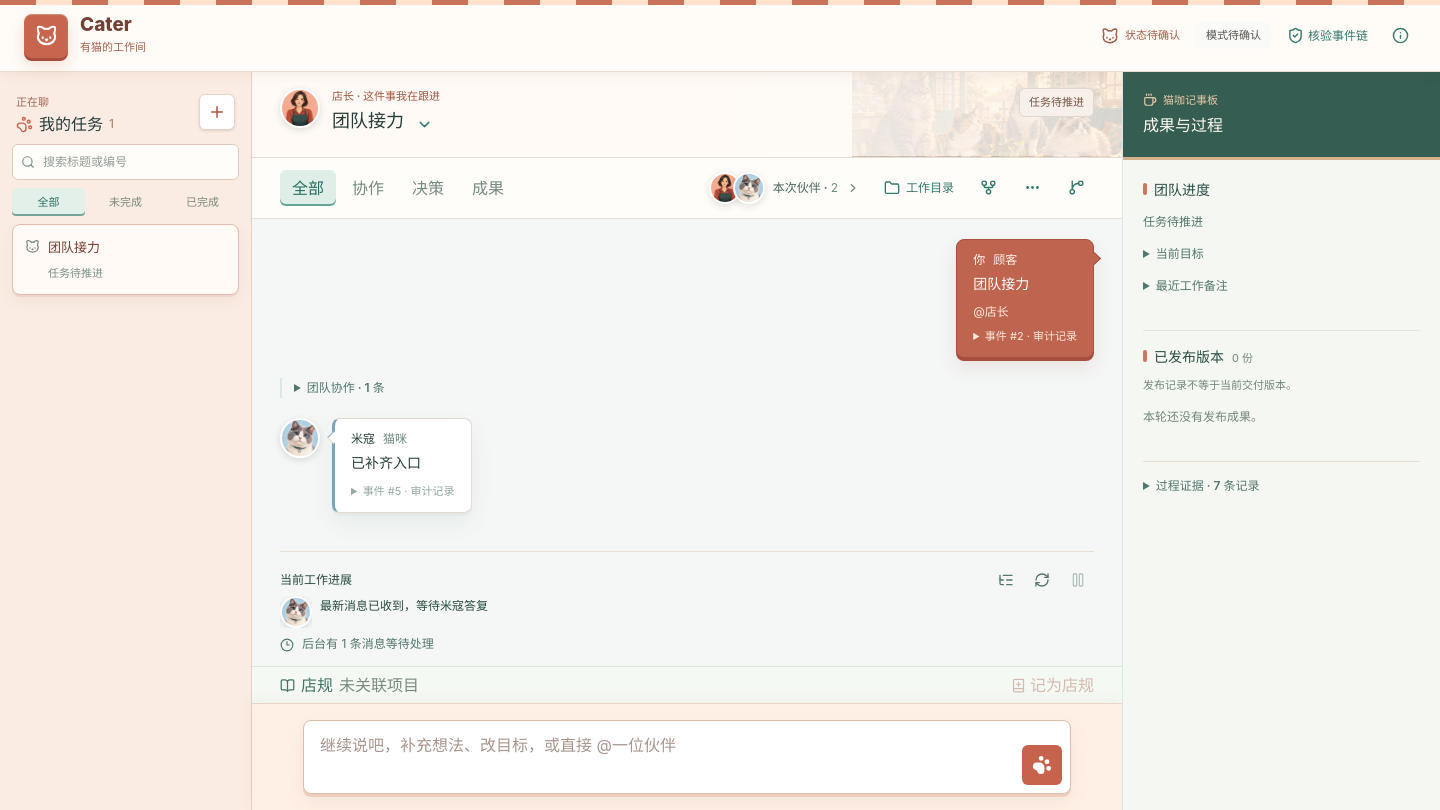
团队用户消息保留一份，角色公开发言使用 speaker，内部报告不重复公开回复
Expected: the element "团队进度" is shown, [1143,180,1228,292]
Expected: the text "团队接力" is shown once, [973,274,1029,292]
What coordinates should you click on to do the following:
click the button "本次伙伴 · 2"
I would click on:
 (784, 188)
Its box is [701,166,868,210].
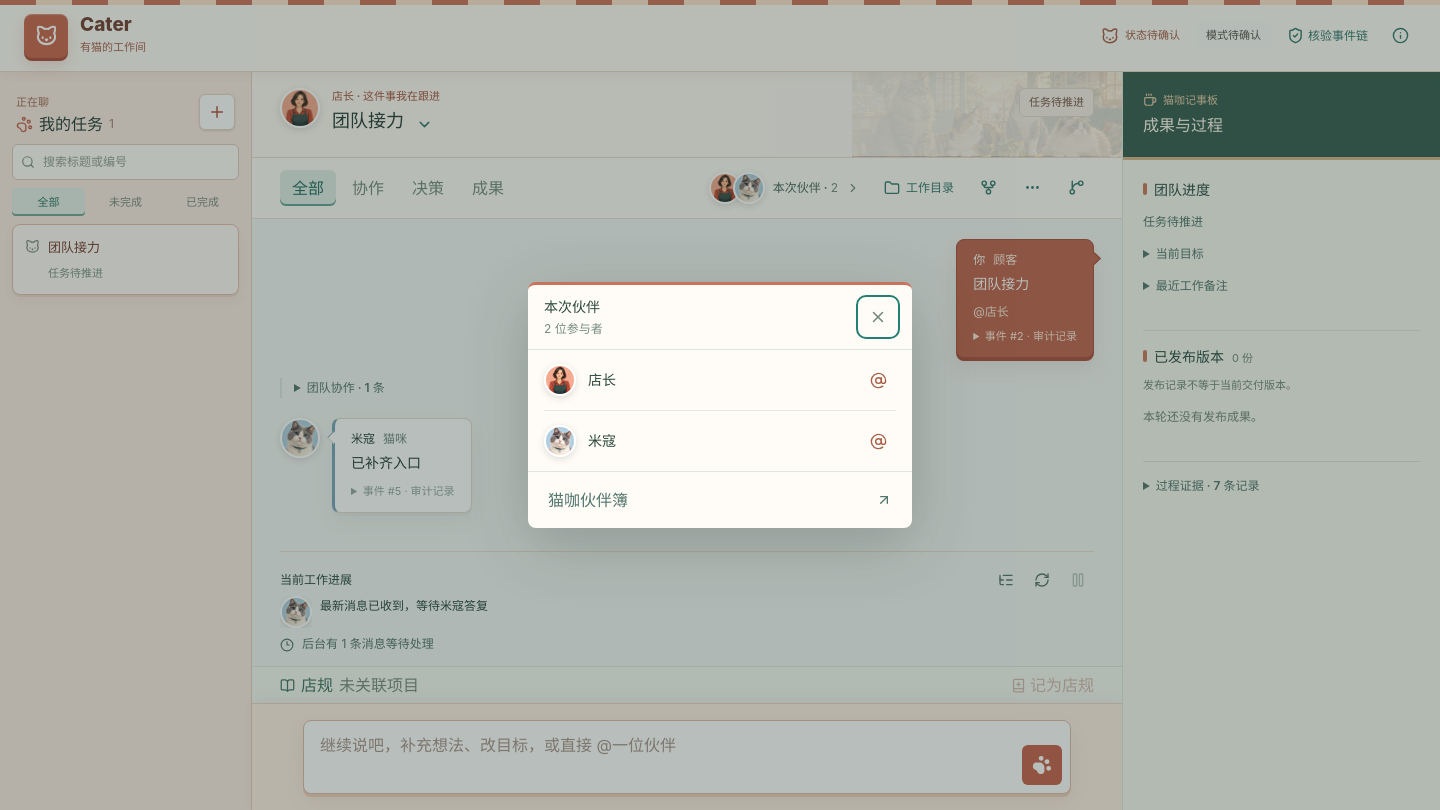
Expected: the button named "点名 米寇" is shown, [860,423,896,459]
